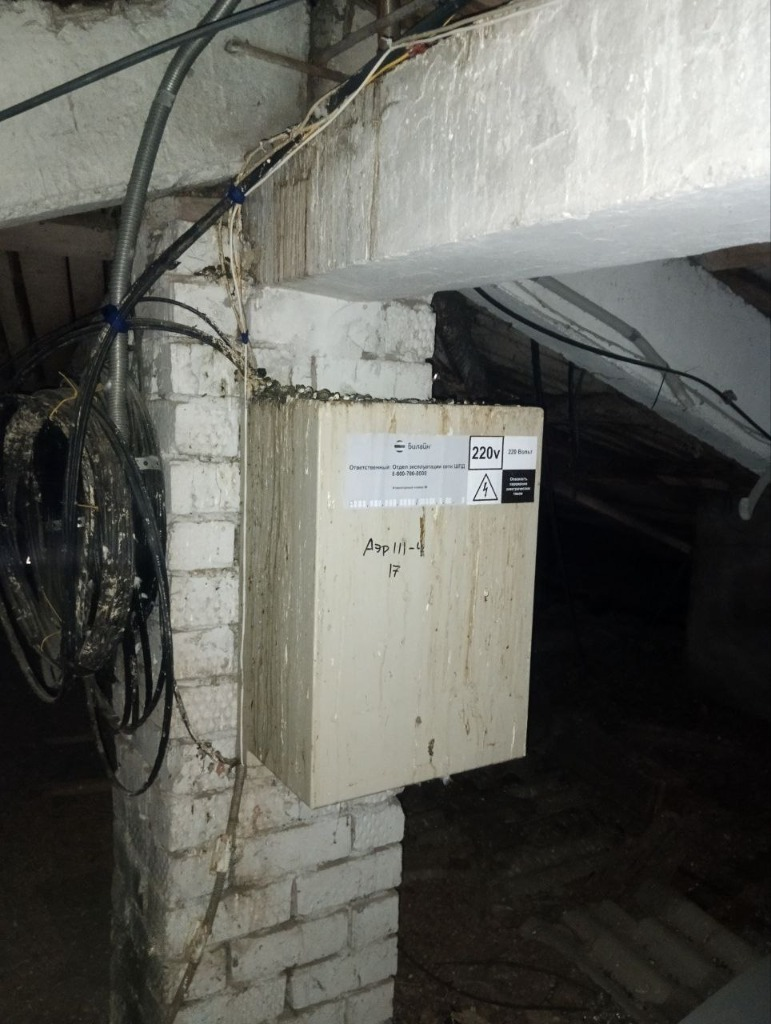sv-5: (237, 387, 547, 816)
